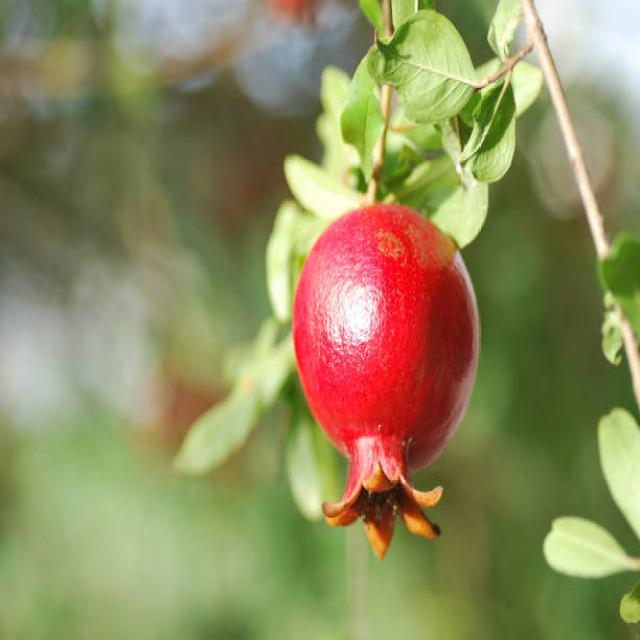Ripe: (293, 201, 482, 568)
